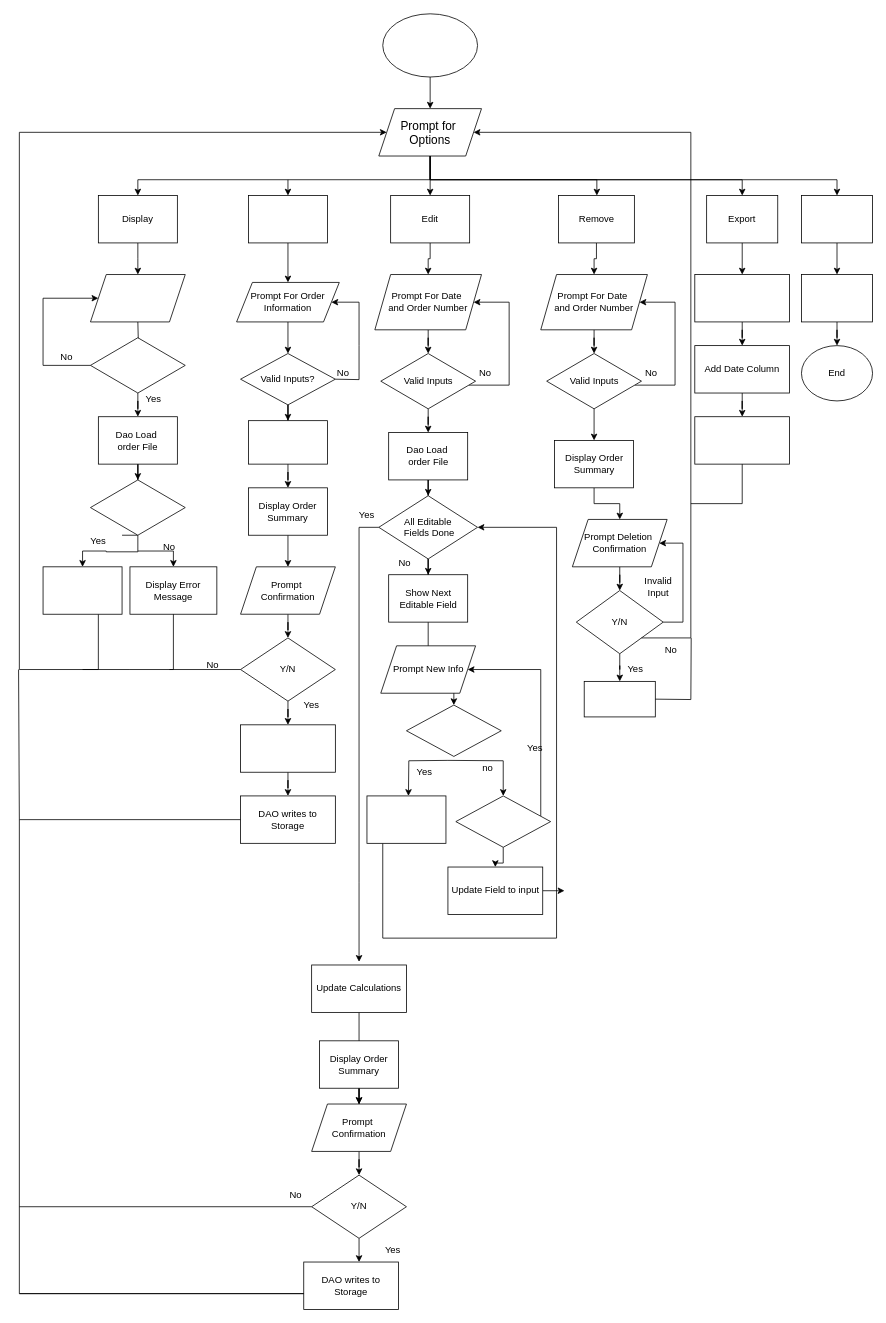
The diagram is 886 pixels wide and 1323 high, and some of its shapes have lost their labels. Each missing label, with the centre of its shape:
Add: the point at 287,219
Calculate Costs: the point at 287,442
Delete Order: the point at 619,699
Display Goodbye: the point at 837,298
Display Order Information: the point at 82,590
Generate Order Number: the point at 287,748
Input Blank?: the point at 453,730
Keep the Previous information: the point at 406,819
Order Exists?: the point at 137,507
Overwrite Data Export File: the point at 742,440
Process Data: the point at 742,298
Prompt For Date: the point at 137,298
Quit: the point at 837,219
Start: the point at 430,45
Valid Date?: the point at 137,365
Valid Input?: the point at 503,821
